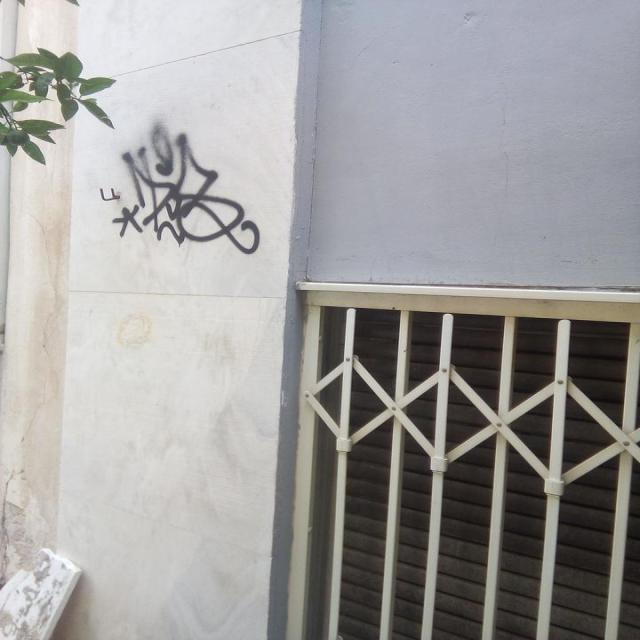nonspitting: (114, 120, 262, 256)
